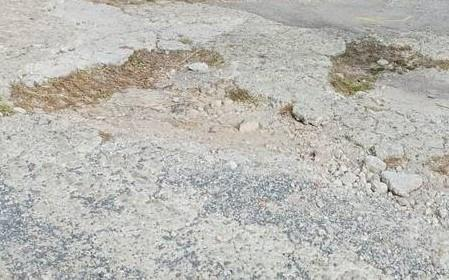pothole: (168, 87, 372, 184), (8, 42, 226, 120), (324, 31, 449, 95)
